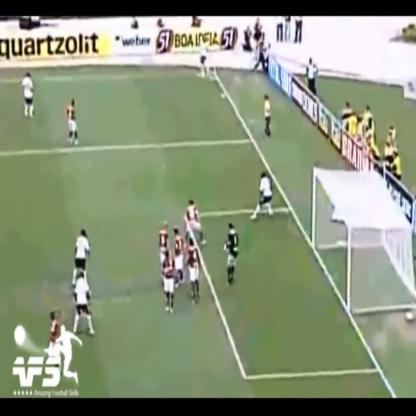corner kick: (182, 26, 243, 119)
